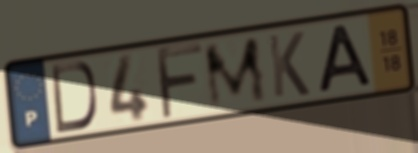4: (107, 50, 152, 125)
A: (316, 21, 376, 96)
D: (49, 59, 100, 136)
F: (152, 41, 206, 123)
K: (265, 29, 313, 100)
M: (200, 33, 271, 113)
